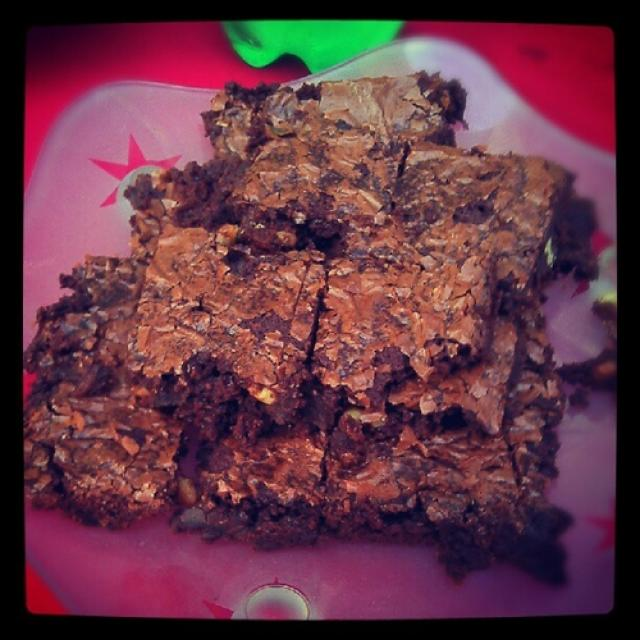蛋糕甜品: (41, 47, 603, 589)
